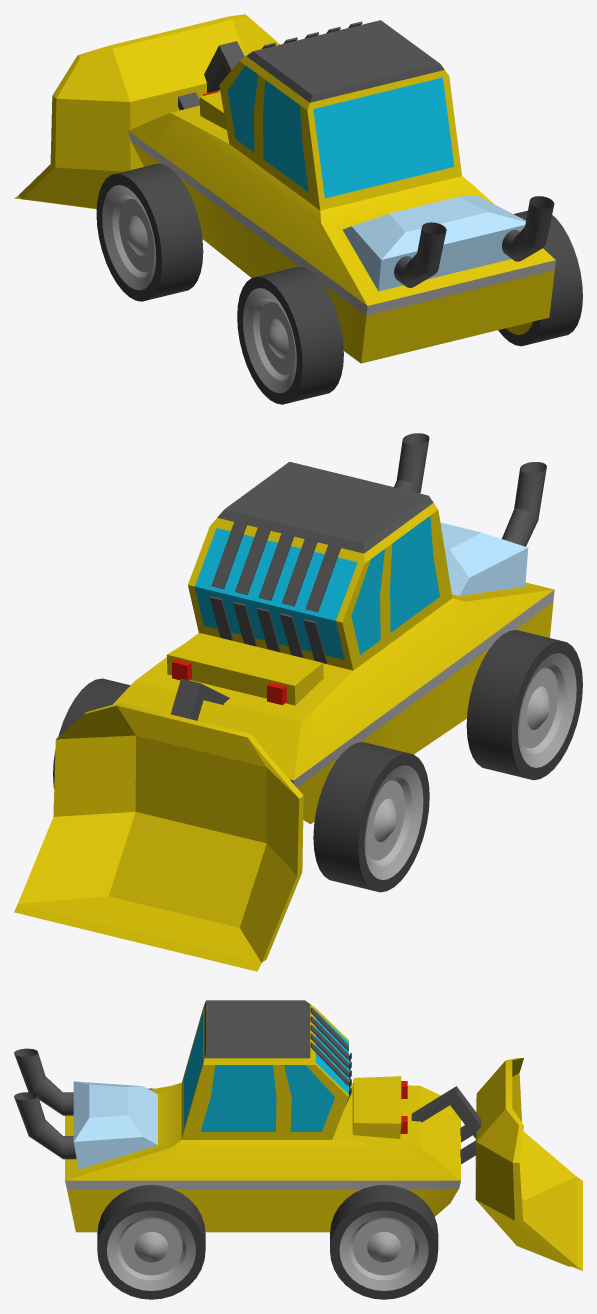
The model's file is buldozer (1).fbx.
3 renders of one model, top to bottom at view 1: azimuth 30°, elevation 25°; view 2: azimuth 150°, elevation 25°; view 3: azimuth 270°, elevation 25°, orthographic. The views are drawn at different scales.
Parts seen in each view (by area): view 1: buldozer; view 2: buldozer; view 3: buldozer.
Part boxes in pixels (bbox=[...]): buldozer: bbox=[14, 14, 582, 404]; buldozer: bbox=[14, 433, 582, 971]; buldozer: bbox=[14, 1000, 582, 1299].
Bounding box in the file's own units: 475 × 418 × 993.
